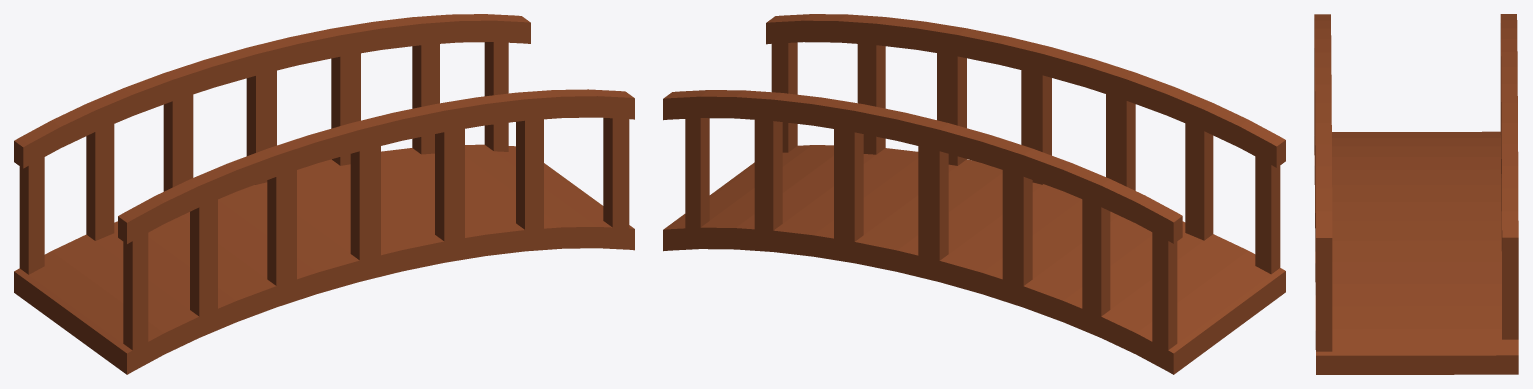
Rendered from bridge.fbx.
3 views of the same model, side by side, from view 1: azimuth 30°, elevation 25°; view 2: azimuth 150°, elevation 25°; view 3: azimuth 270°, elevation 25° (orthographic). The views are drawn at different scales.
Parts seen in each view (by area): view 1: Cube.053; view 2: Cube.053; view 3: Cube.053.
Part boxes in pixels (x1,y1,x2,y2): Cube.053: (14, 14, 634, 374); Cube.053: (663, 14, 1285, 374); Cube.053: (1314, 14, 1518, 374).
Size of the model in its own units: 2213 by 781 by 852.
